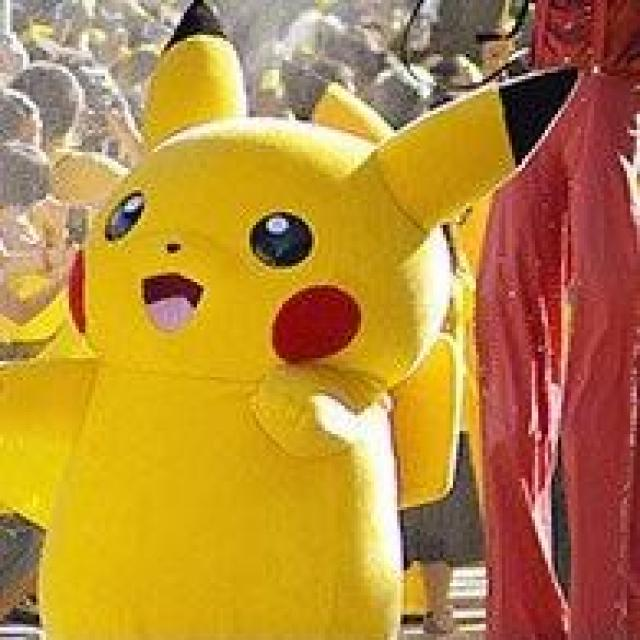pikachu: (0, 2, 581, 640)
